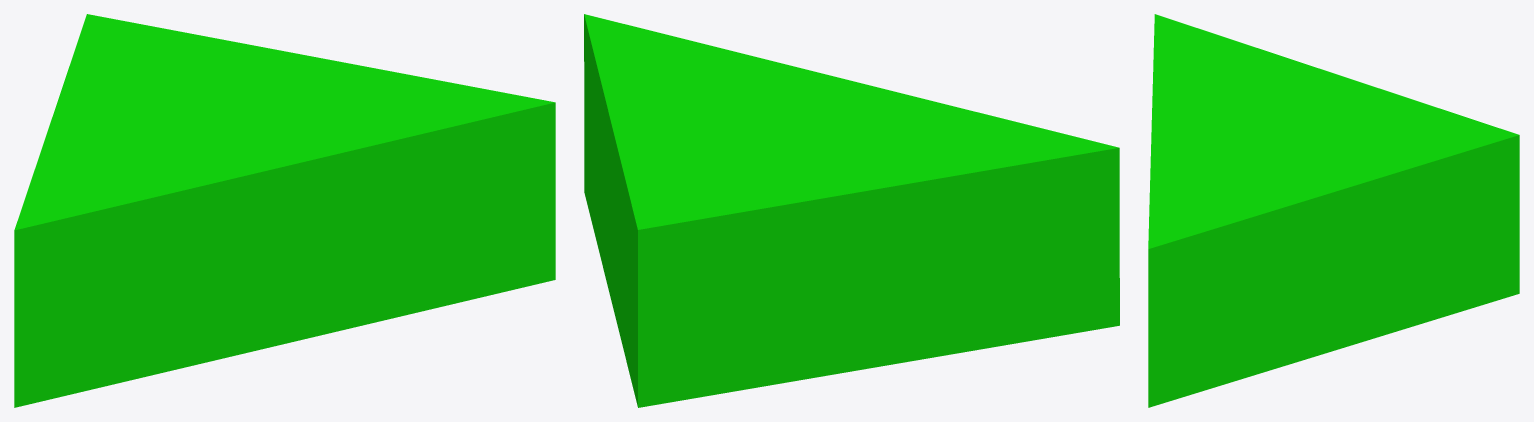
Rendered from Puzzle2Triangle.fbx.
The picture shows the model from 3 angles, left to right: view 1: azimuth 30°, elevation 25°; view 2: azimuth 150°, elevation 25°; view 3: azimuth 270°, elevation 25°; orthographic projection. The views are drawn at different scales.
Parts seen in each view (by area): view 1: TriangleBlock; view 2: TriangleBlock; view 3: TriangleBlock.
Part boxes in pixels (left/top/right/bottom): TriangleBlock: left=14, top=14, right=555, bottom=407; TriangleBlock: left=584, top=14, right=1119, bottom=407; TriangleBlock: left=1148, top=14, right=1519, bottom=407.
Bounding box in the file's own units: 69.56 × 21.99 × 46.49.
